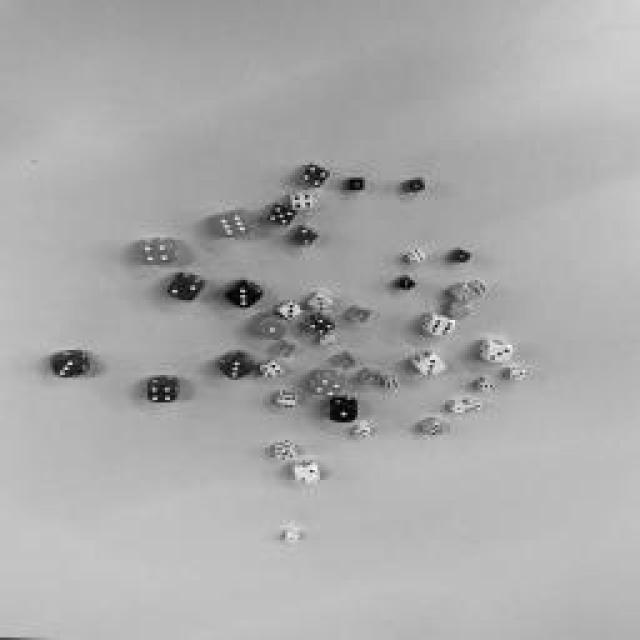dice_1: (256, 320, 286, 340), (329, 408, 356, 422), (410, 180, 425, 192), (455, 250, 470, 262), (348, 180, 364, 190), (453, 405, 465, 413), (288, 538, 298, 542)
dice_2: (166, 280, 199, 300), (292, 228, 318, 248), (295, 468, 317, 482), (452, 289, 472, 301), (451, 305, 469, 317), (320, 335, 335, 345)
dice_3: (225, 286, 260, 309), (221, 360, 251, 380), (52, 360, 82, 378), (418, 360, 444, 375), (278, 302, 302, 318), (488, 348, 512, 362), (310, 296, 330, 312), (395, 279, 415, 291), (362, 373, 380, 385), (478, 381, 492, 391), (511, 372, 524, 380)
dice_4: (300, 165, 330, 187), (141, 242, 171, 262), (312, 379, 342, 396), (147, 385, 175, 403), (307, 319, 335, 336), (260, 362, 280, 378), (292, 195, 312, 210), (338, 356, 358, 369), (408, 254, 424, 264)
dice_5: (265, 204, 295, 226), (275, 448, 295, 460)
dice_6: (218, 214, 252, 236), (430, 319, 455, 336), (276, 396, 296, 409), (276, 345, 296, 357), (350, 310, 370, 322), (425, 425, 445, 435), (470, 285, 485, 295), (355, 430, 370, 438), (385, 379, 397, 389), (468, 404, 480, 411)
